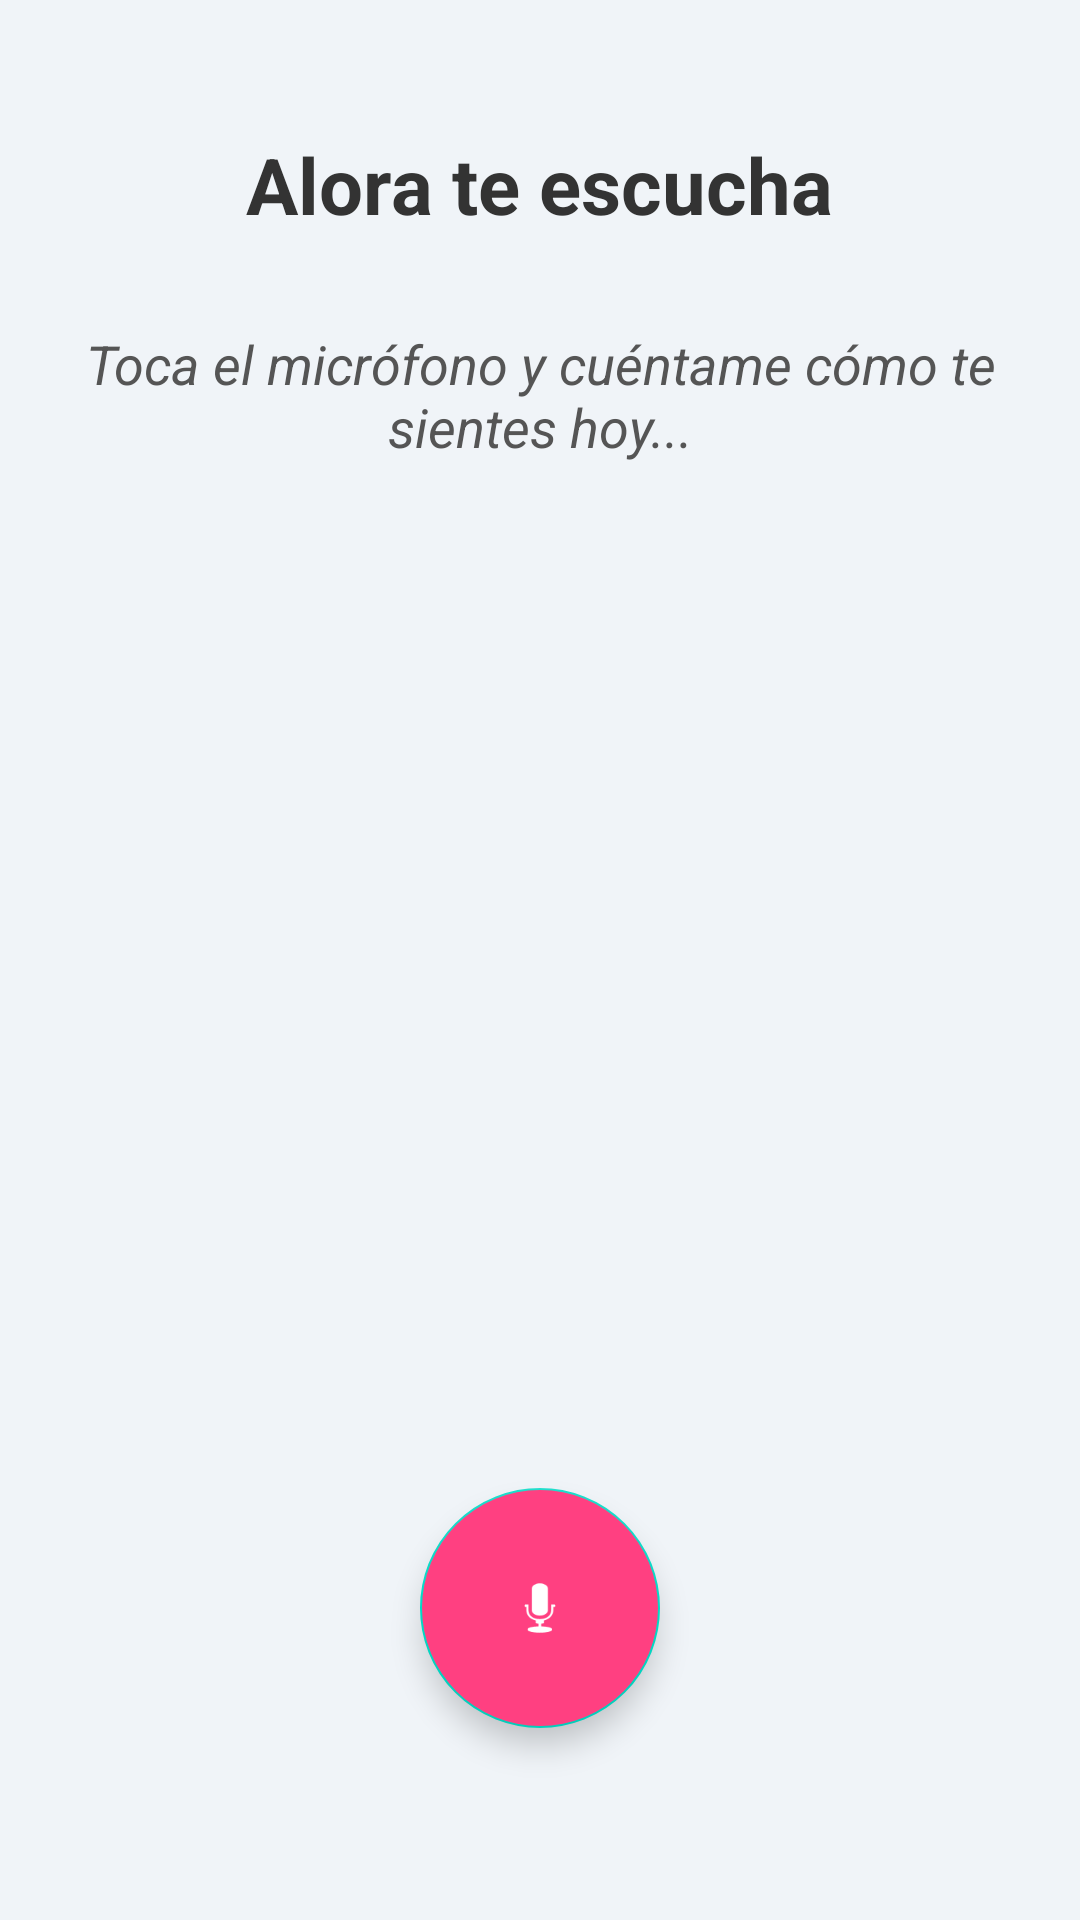

Where to tap for icons on this 1080w x 1920h app screen, as point (x, y):
Hablar: point (540, 1608)
